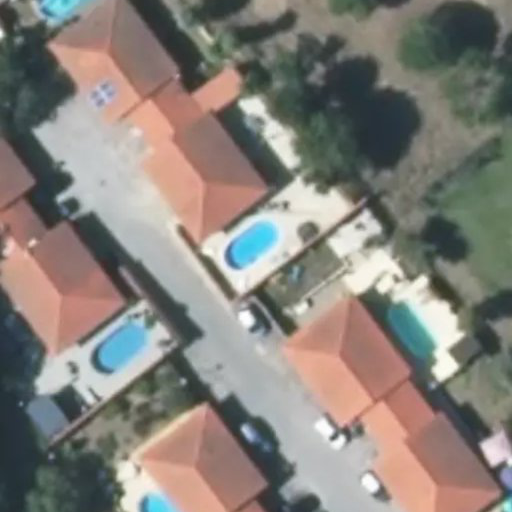pool: (89, 319, 151, 375), (386, 298, 439, 358), (225, 220, 279, 268), (38, 1, 86, 31), (137, 493, 175, 512)
